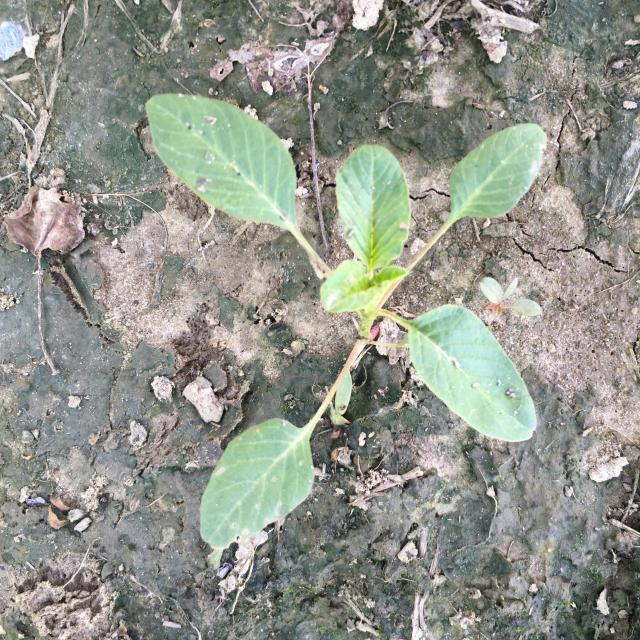PalmerAmaranth: (145, 94, 548, 549)
